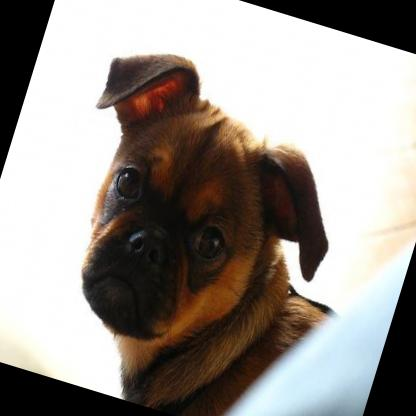Brabancon_griffon: (14, 35, 397, 416)
